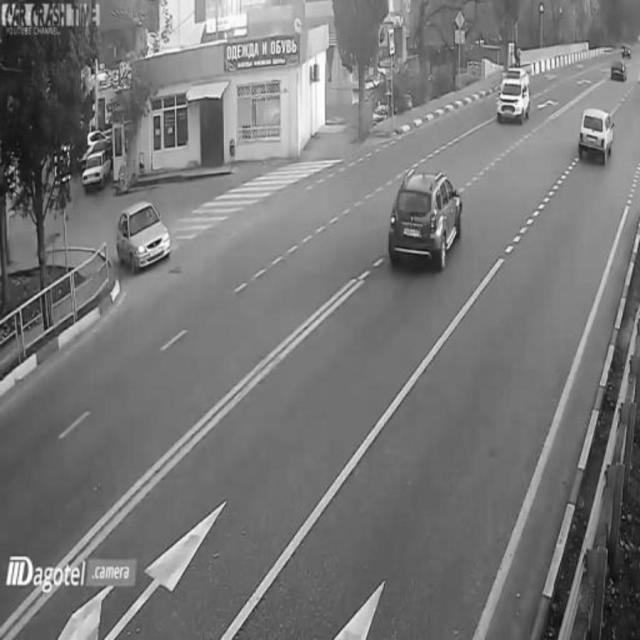vehicle: (388, 160, 465, 268), (117, 193, 175, 283), (576, 101, 617, 172), (494, 70, 529, 126), (79, 148, 109, 190), (607, 50, 627, 85)
